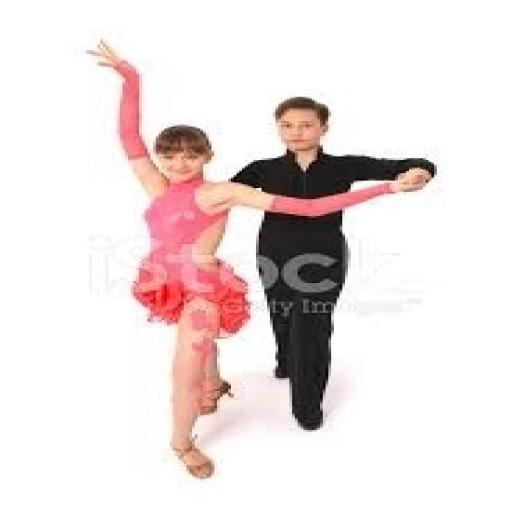dancing: (81, 36, 434, 480)
